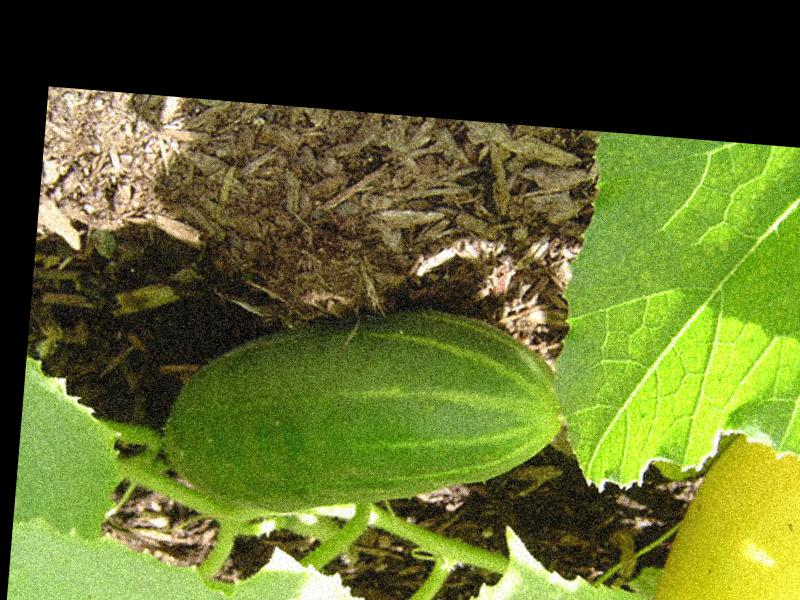Cucumber: (157, 287, 571, 536)
